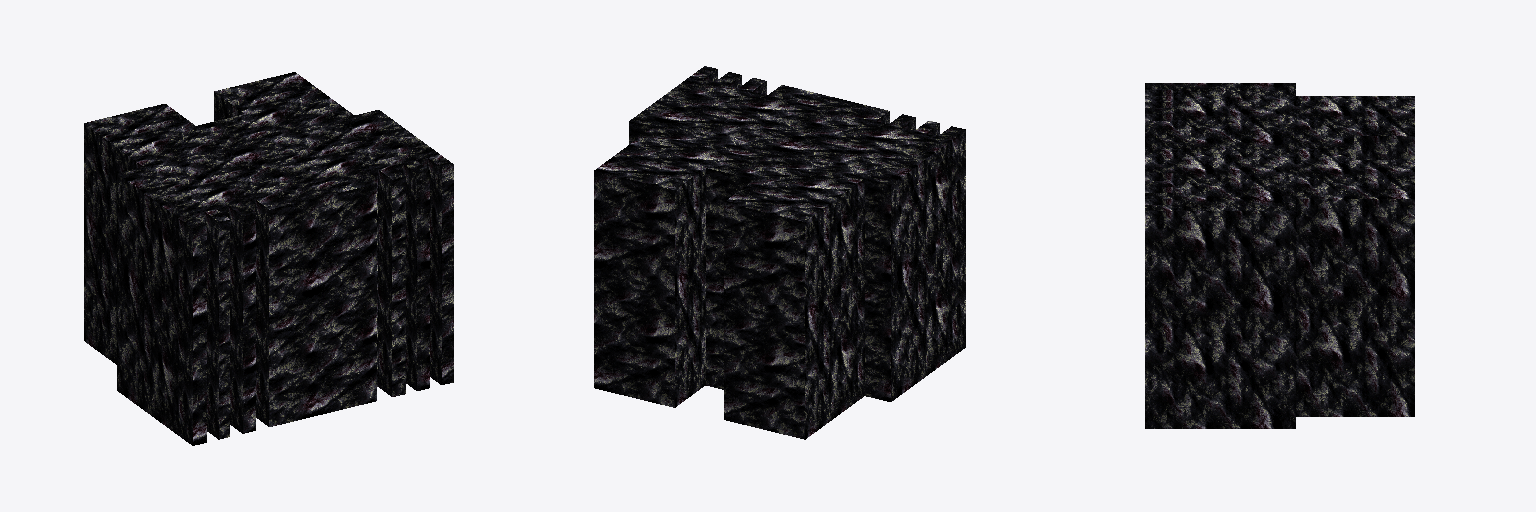
3 views of the same model, side by side, from view 1: azimuth 30°, elevation 25°; view 2: azimuth 150°, elevation 25°; view 3: azimuth 270°, elevation 25° (orthographic).
Bounding box in the file's own units: 8.83 × 7.02 × 7.9.
Materials: 1 (1 with a texture image).